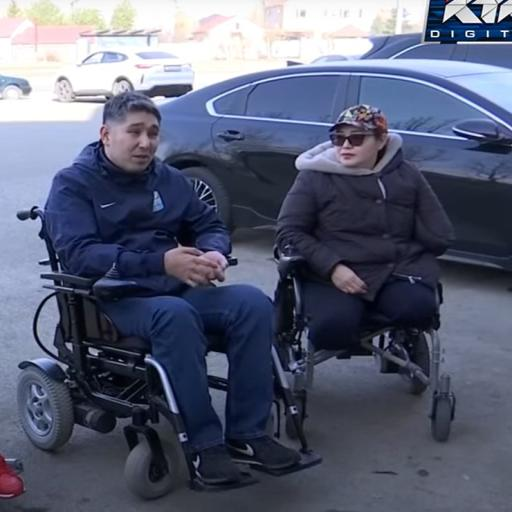laptop: (45, 92, 299, 484), (277, 104, 454, 350), (0, 454, 24, 498)
wheelchair: (17, 207, 257, 499), (274, 245, 455, 441)
